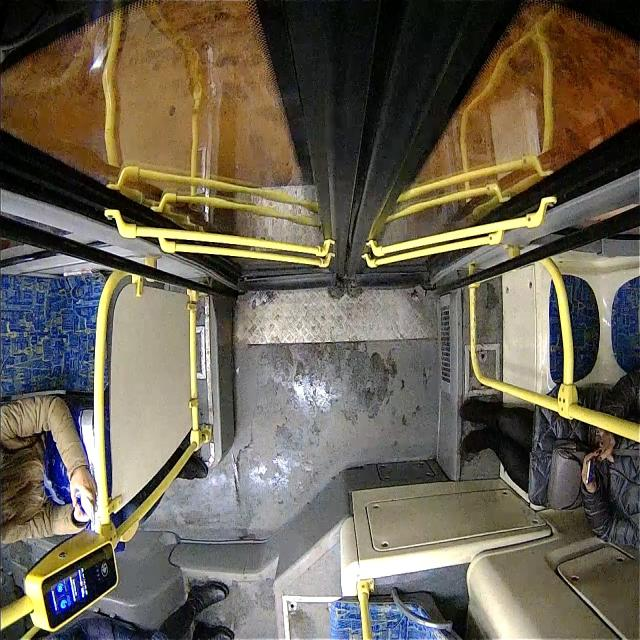bus-door: (0, 0, 640, 288)
